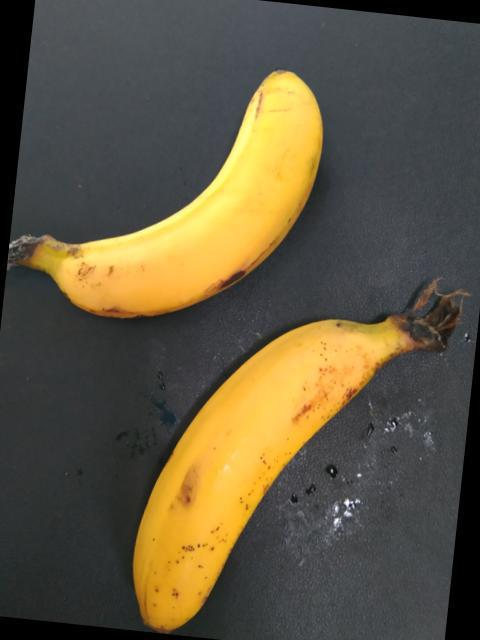freshripe: (3, 68, 339, 340)
ripe: (105, 309, 404, 639)
